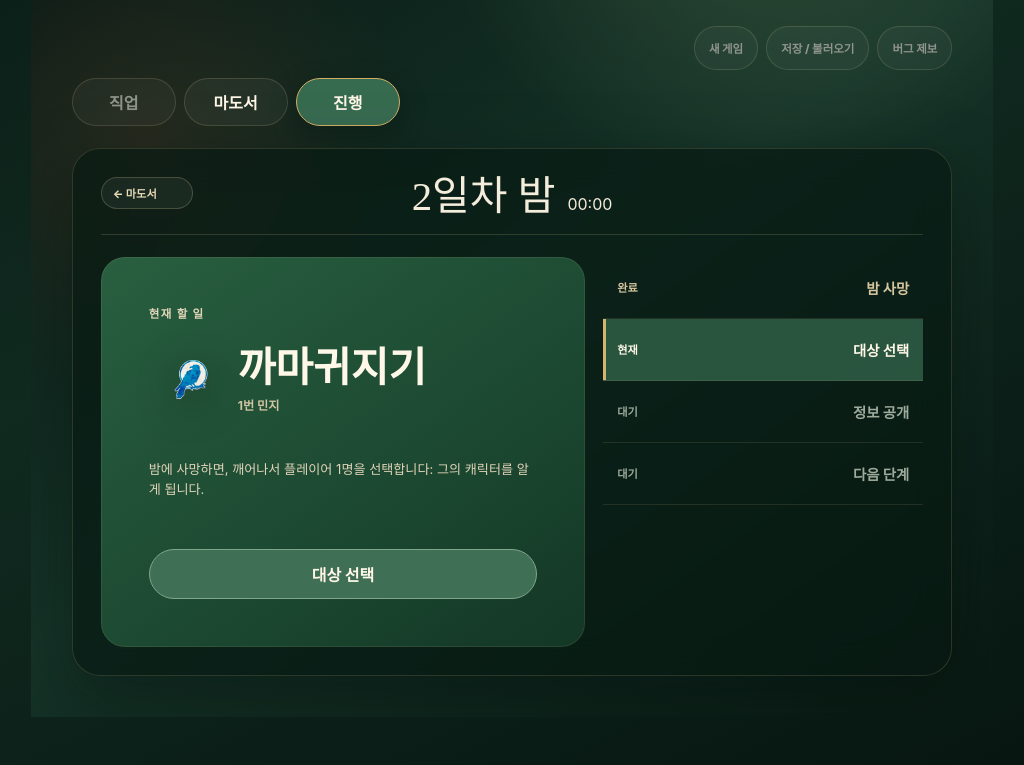
Test: selects a Ravenkeeper target, shows the truth, and uses the targeted Reveal
The image size is (1024, 765).
(page scrolled)
expect the button with aria-label "까마귀지기 캐릭터 상세 열기" is shown: met, box [149,338,439,424]
Click the button "대상 선택".
click(343, 574)  # box [149,549,537,599]
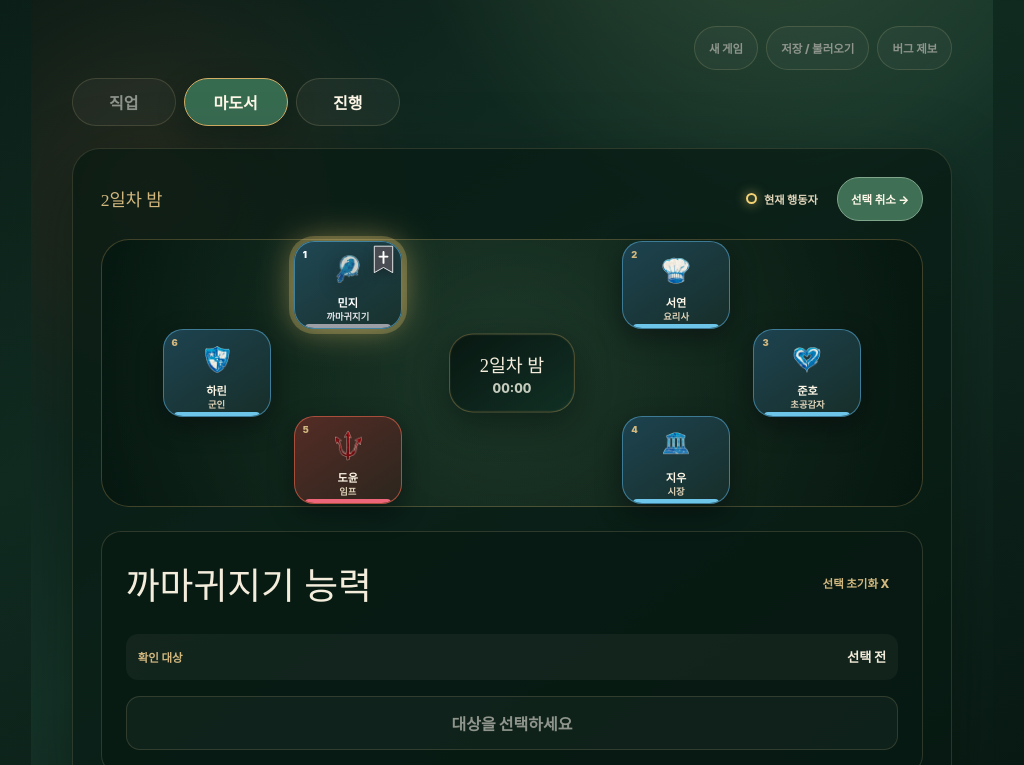
expect the button with aria-label "1번 좌석, 민지" is enabled: met, box [294,241,402,329]
Click the button with aria-label "4번 좌석, 지우".
click(676, 460)  # box [622,416,730,504]
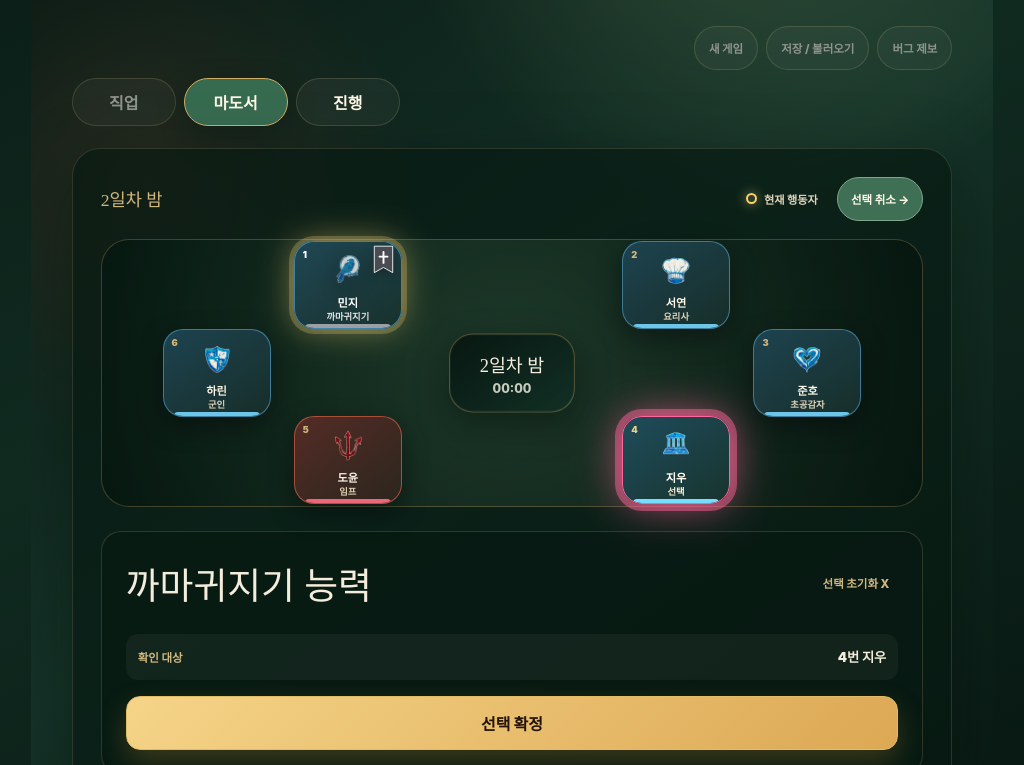
expect the heading "까마귀지기 능력" is shown: met, box [126,556,372,610]
expect the text "확인 대상" is shown: met, box [138,649,183,665]
Click the button "선택 확정".
click(512, 723)  # box [126,696,898,750]
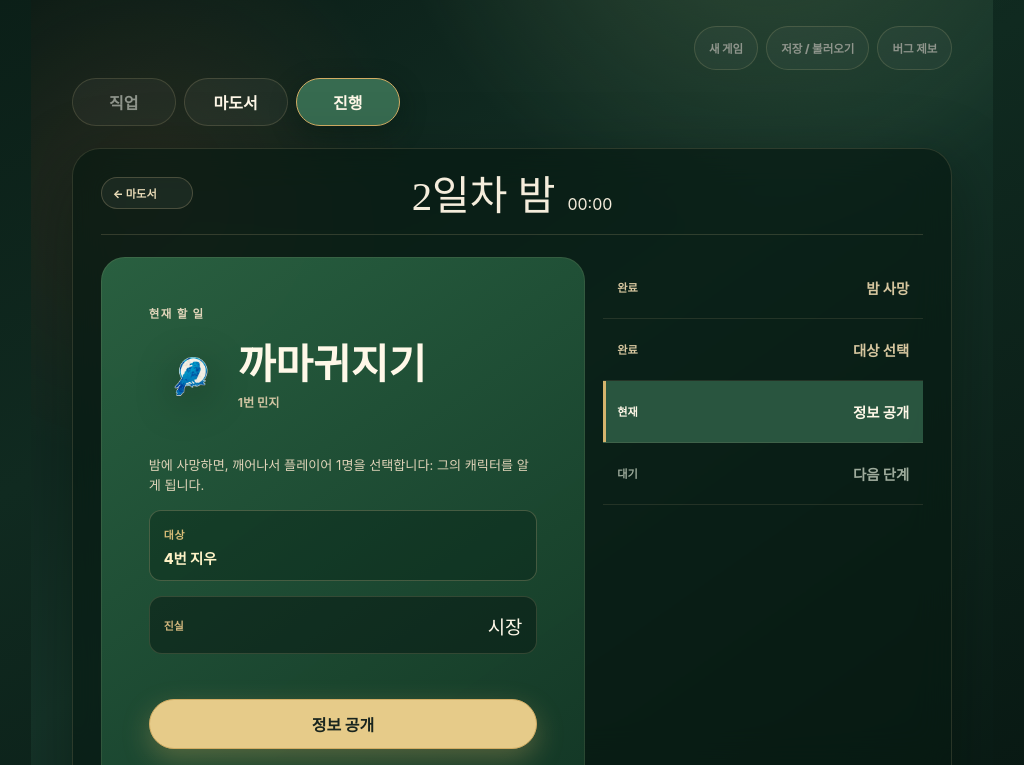
expect the text "4번 지우" is shown: met, box [164,550,216,567]
expect the text "진실" is shown: met, box [164,619,184,633]
expect the text "시장" is shown: met, box [488,612,522,639]
Click the button "정보 공개".
click(343, 724)  # box [149,699,537,749]
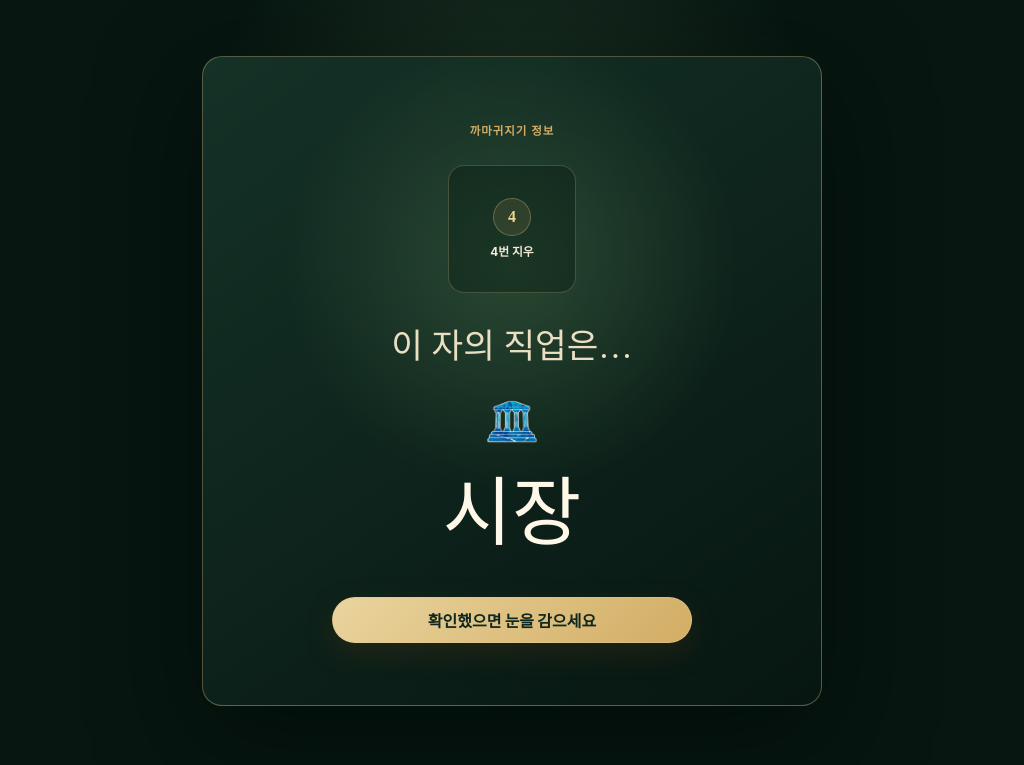
expect the text "까마귀지기 정보" is shown: met, box [470,125,554,137]
expect the element named "4번 지우 좌석" is shown: met, box [448,165,576,293]
expect the text "이 자의 직업은…" is shown: met, box [391,323,633,369]
